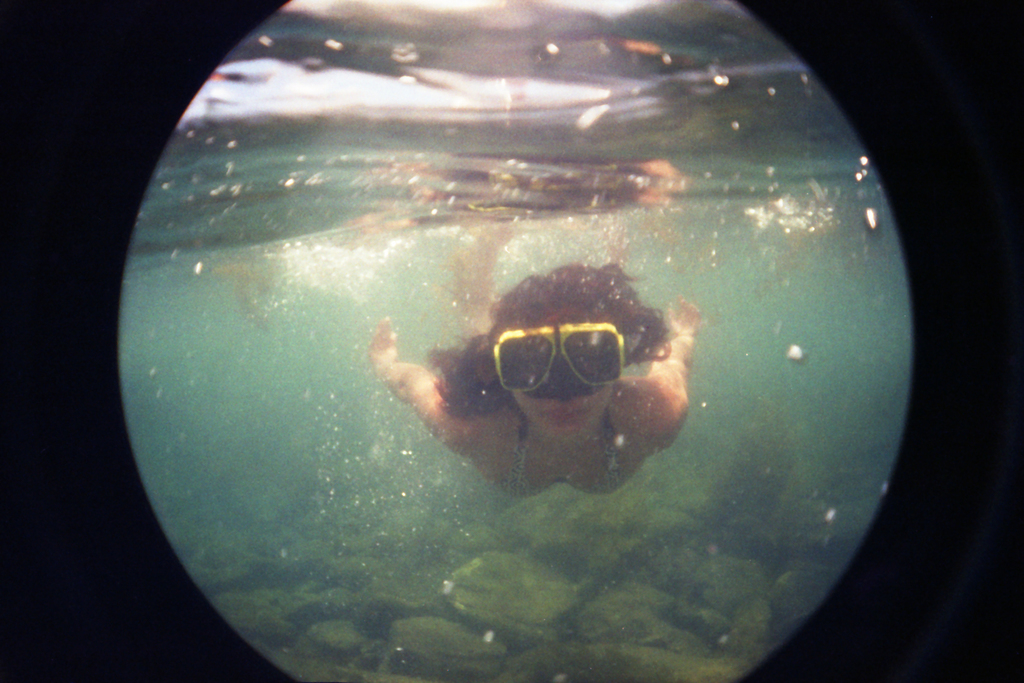Person: (368, 223, 701, 497)
